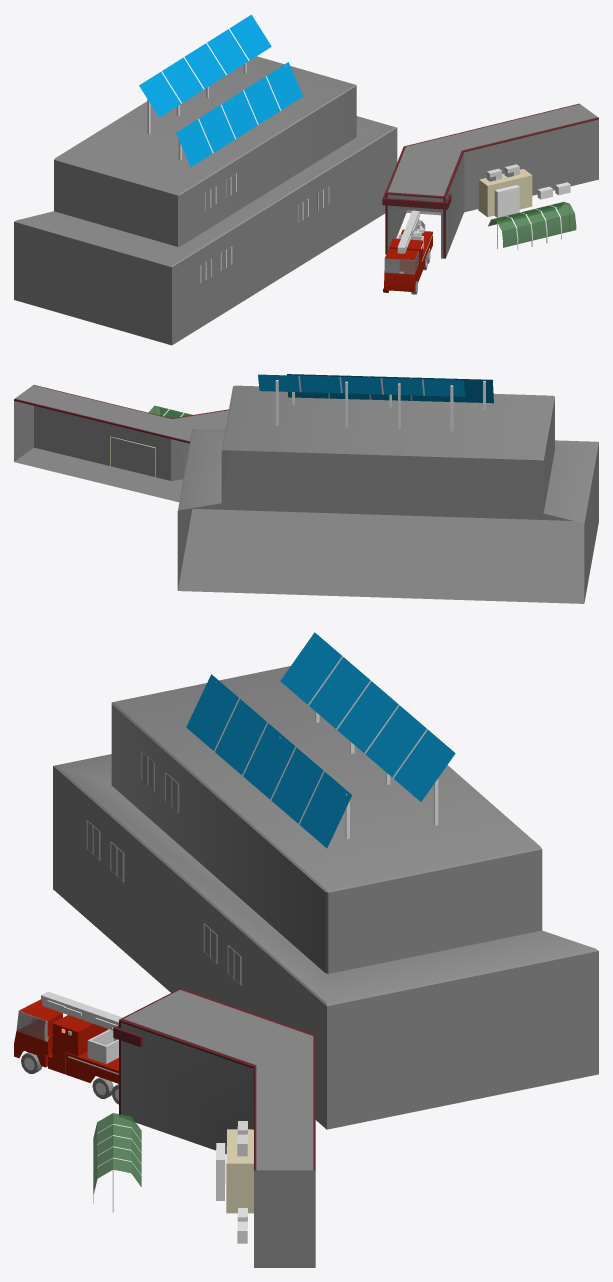
File: Building04fbx.fbx
3 views of the same model, one above another, from view 1: azimuth 30°, elevation 25°; view 2: azimuth 150°, elevation 25°; view 3: azimuth 270°, elevation 25° (orthographic). The views are drawn at different scales.
Visible parts, largest first — view 1: Building04; view 2: Building04; view 3: Building04.
Boxes of the visible parts, bbox=[...] form: Building04: bbox=[14, 14, 598, 345]; Building04: bbox=[14, 374, 598, 603]; Building04: bbox=[14, 632, 598, 1267].
Size of the model in its own units: 11396 by 3674 by 6502.
